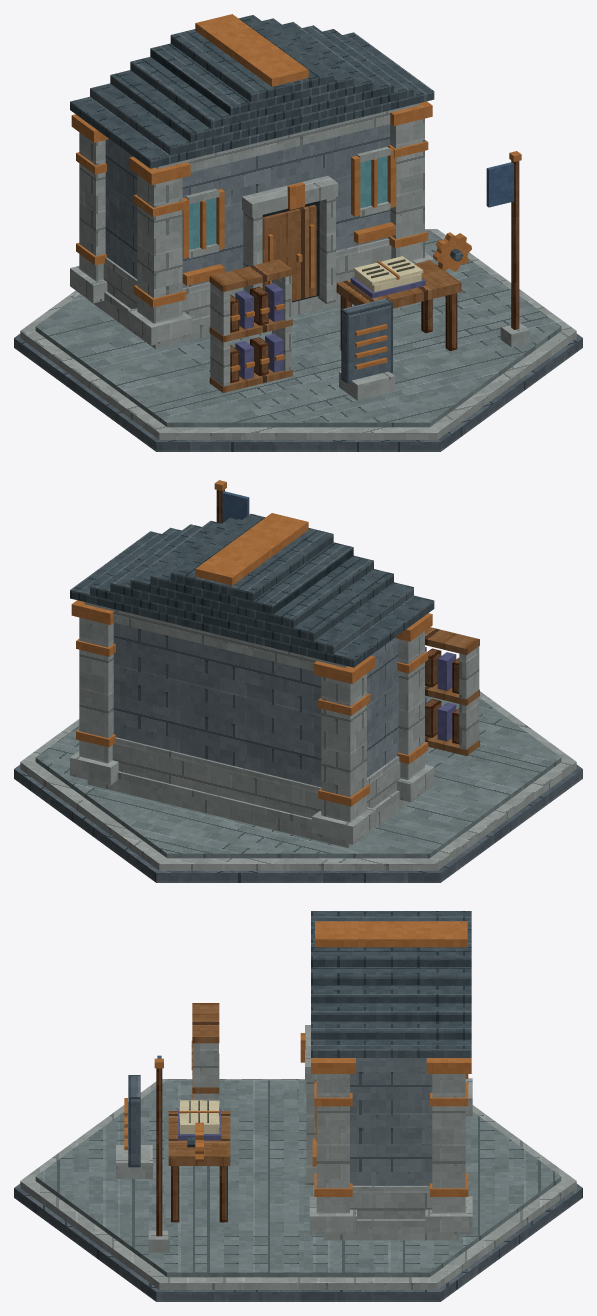
The model's file is dwarf_university_hex_v1.glb.
The picture shows the model from 3 angles, top to bottom: view 1: azimuth 30°, elevation 25°; view 2: azimuth 150°, elevation 25°; view 3: azimuth 270°, elevation 25°; orthographic projection.
Parts seen in each view (by area): view 1: Dwarf_University_Hex_V1_Foundation, Dwarf_University_Hex_V1_Roofs, Dwarf_University_Hex_V1_Details, Dwarf_University_Hex_V1_Structure, Dwarf_University_Hex_V1_Hall, Dwarf_University_Hex_V1_Focus, Dwarf_University_Hex_V1_Faction; view 2: Dwarf_University_Hex_V1_Hall, Dwarf_University_Hex_V1_Foundation, Dwarf_University_Hex_V1_Roofs, Dwarf_University_Hex_V1_Structure, Dwarf_University_Hex_V1_Details, Dwarf_University_Hex_V1_Faction; view 3: Dwarf_University_Hex_V1_Foundation, Dwarf_University_Hex_V1_Roofs, Dwarf_University_Hex_V1_Hall, Dwarf_University_Hex_V1_Structure, Dwarf_University_Hex_V1_Details, Dwarf_University_Hex_V1_Focus.
Part boxes in pixels (bbox=[...]): Dwarf_University_Hex_V1_Foundation: bbox=[14, 229, 582, 451]; Dwarf_University_Hex_V1_Roofs: bbox=[70, 14, 434, 168]; Dwarf_University_Hex_V1_Details: bbox=[76, 140, 529, 392]; Dwarf_University_Hex_V1_Structure: bbox=[70, 101, 434, 345]; Dwarf_University_Hex_V1_Hall: bbox=[88, 124, 391, 349]; Dwarf_University_Hex_V1_Focus: bbox=[339, 232, 471, 400]; Dwarf_University_Hex_V1_Faction: bbox=[486, 162, 513, 207]; Dwarf_University_Hex_V1_Hall: bbox=[87, 622, 416, 847]; Dwarf_University_Hex_V1_Foundation: bbox=[14, 691, 582, 882]; Dwarf_University_Hex_V1_Roofs: bbox=[70, 513, 434, 667]; Dwarf_University_Hex_V1_Structure: bbox=[70, 600, 434, 844]; Dwarf_University_Hex_V1_Details: bbox=[76, 480, 479, 806]; Dwarf_University_Hex_V1_Faction: bbox=[222, 491, 249, 522]; Dwarf_University_Hex_V1_Foundation: bbox=[14, 1079, 582, 1301]; Dwarf_University_Hex_V1_Roofs: bbox=[311, 911, 471, 1057]; Dwarf_University_Hex_V1_Hall: bbox=[323, 1058, 459, 1240]; Dwarf_University_Hex_V1_Structure: bbox=[305, 1025, 472, 1234]; Dwarf_University_Hex_V1_Details: bbox=[124, 1003, 468, 1252]; Dwarf_University_Hex_V1_Focus: bbox=[116, 1075, 203, 1178].
Bounding box in the file's own units: 1.59 × 0.954 × 1.84.
1 material, 1 textured.
